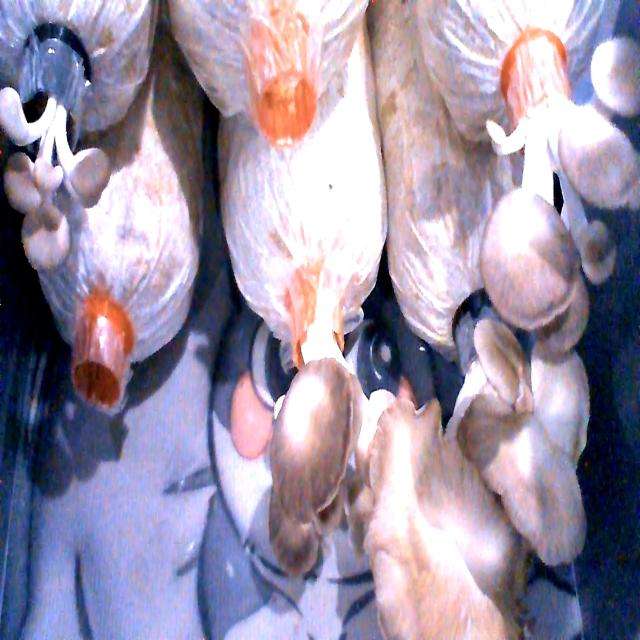big: (339, 372, 591, 623), (462, 49, 636, 368), (266, 322, 364, 590)
nfound: (248, 54, 326, 150), (68, 331, 147, 414)
small: (0, 53, 101, 270)
